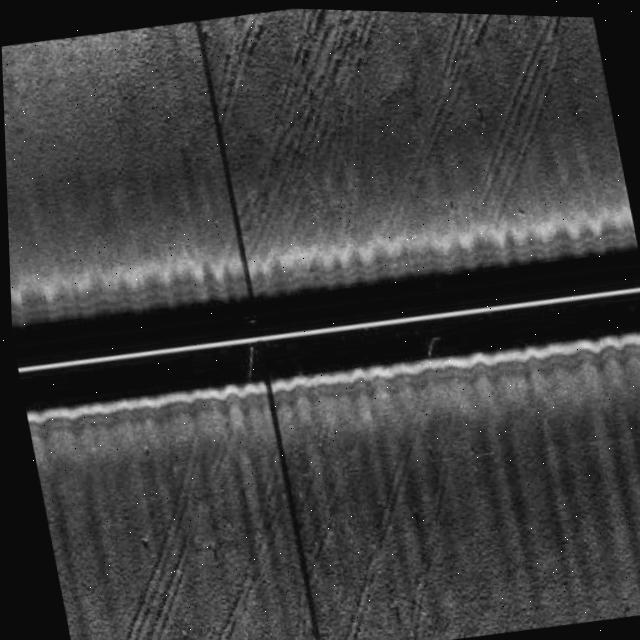mine: (132, 533, 146, 552)
